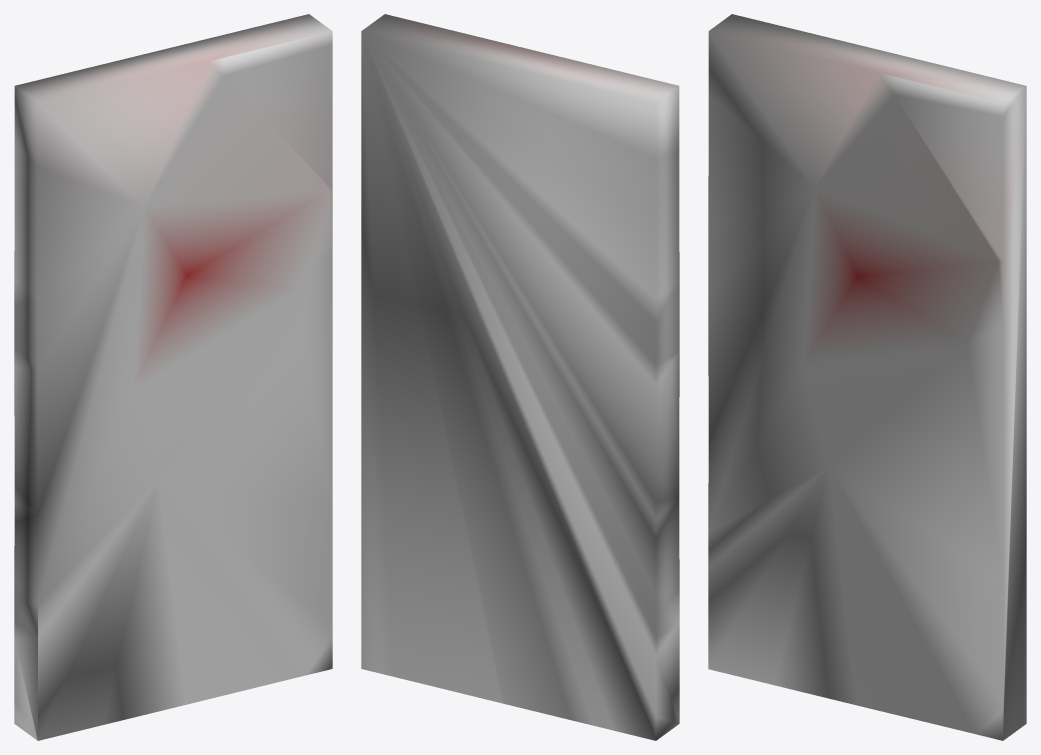
The model's file is SM_FA_Factory_W145_H300.fbx.
3 views of the same model, side by side, from view 1: azimuth 30°, elevation 25°; view 2: azimuth 150°, elevation 25°; view 3: azimuth 330°, elevation 25° (orthographic).
Visible parts, largest first — view 1: SM_FA_Factory_W145_H300; view 2: SM_FA_Factory_W145_H300; view 3: SM_FA_Factory_W145_H300.
Boxes of the visible parts, bbox=[...] form: SM_FA_Factory_W145_H300: bbox=[14, 14, 332, 740]; SM_FA_Factory_W145_H300: bbox=[361, 14, 679, 740]; SM_FA_Factory_W145_H300: bbox=[708, 14, 1026, 740].
Bounding box in the file's own units: 145 × 20 × 300.
